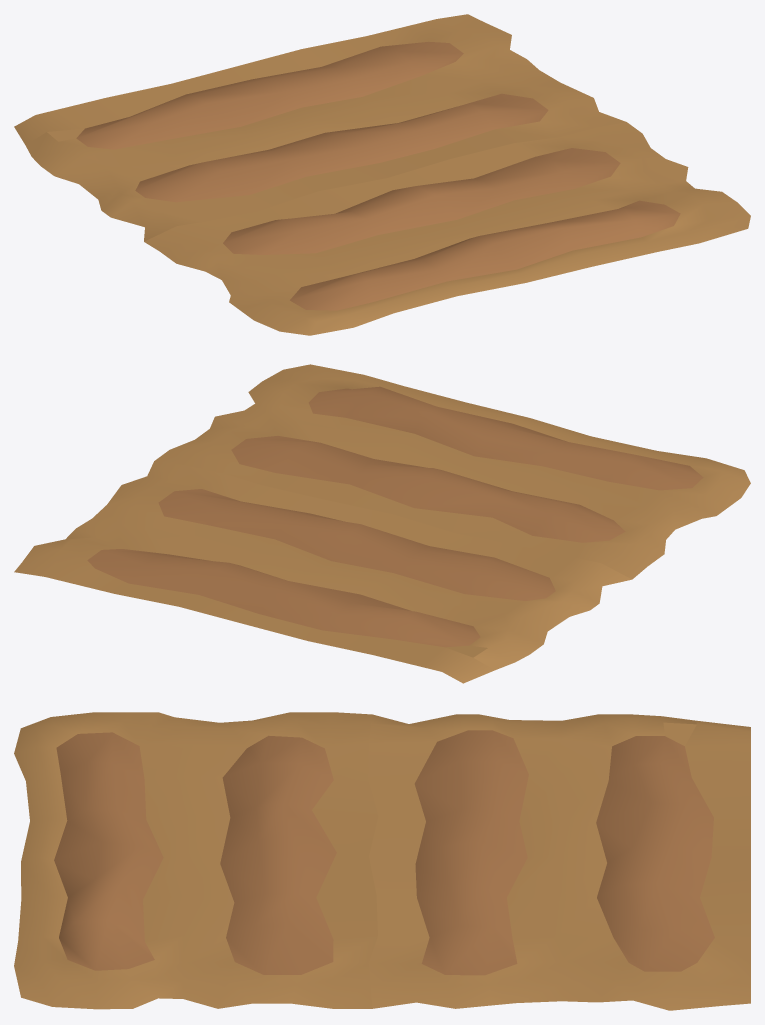
Rendered from Building_model_0_Fieldbackfrontrightedge001.fbx.
3 views of the same model, one above another, from view 1: azimuth 30°, elevation 25°; view 2: azimuth 150°, elevation 25°; view 3: azimuth 270°, elevation 25° (orthographic). The views are drawn at different scales.
Visible parts, largest first — view 1: Building_model_0_Fieldbackfrontrightedge001; view 2: Building_model_0_Fieldbackfrontrightedge001; view 3: Building_model_0_Fieldbackfrontrightedge001.
Boxes of the visible parts, left/top/right/bottom form: Building_model_0_Fieldbackfrontrightedge001: left=14, top=14, right=750, bottom=335; Building_model_0_Fieldbackfrontrightedge001: left=14, top=364, right=750, bottom=683; Building_model_0_Fieldbackfrontrightedge001: left=14, top=712, right=750, bottom=1010.
Bounding box in the file's own units: 2.8 × 0.11 × 2.92.
